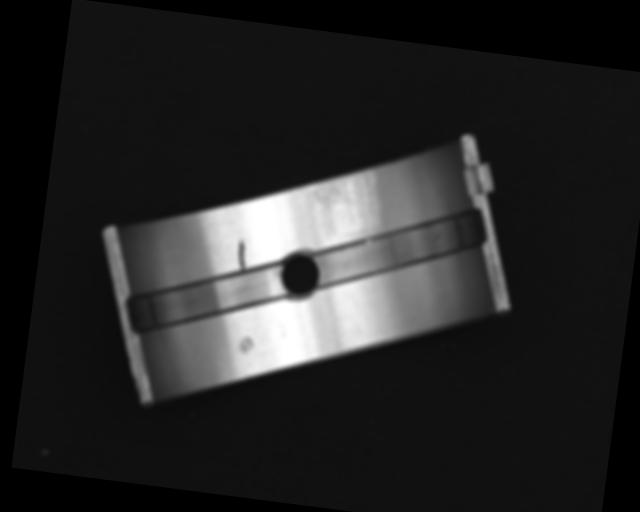bruise: (236, 334, 256, 355)
gap: (310, 194, 484, 305), (124, 252, 287, 348)
hole: (276, 251, 322, 299)
nick: (234, 235, 250, 272)
scratch: (310, 152, 382, 234)
